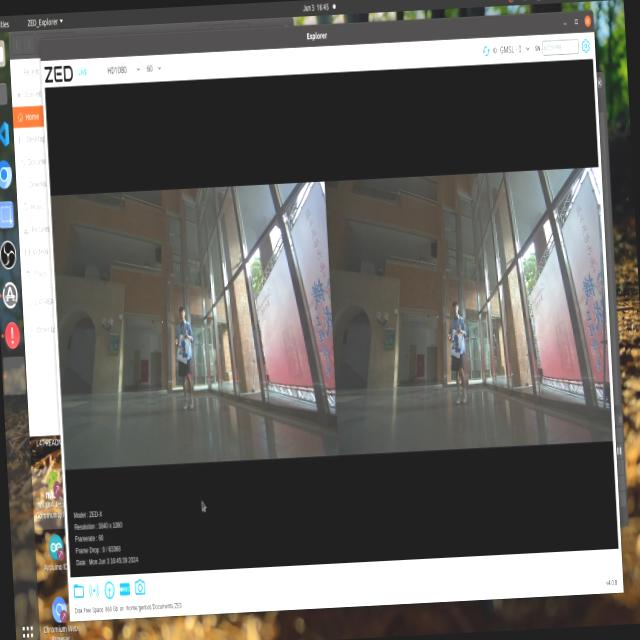blue: (174, 330, 188, 364), (452, 334, 458, 352)
